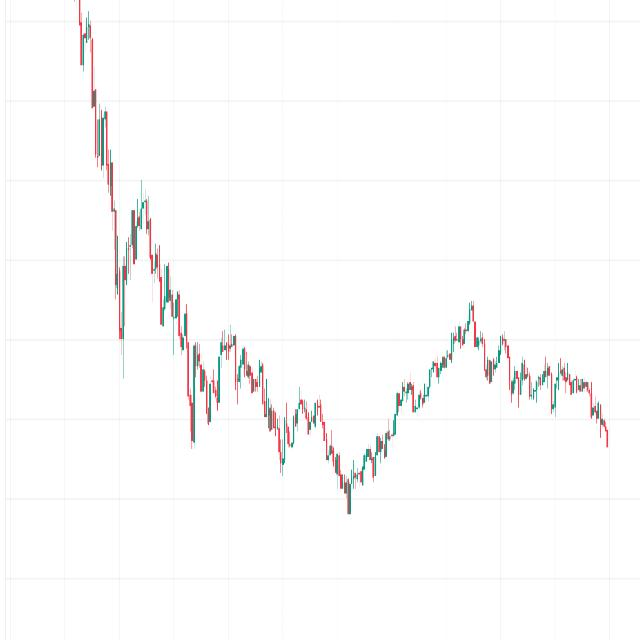Channel-down: (122, 166, 232, 475)
